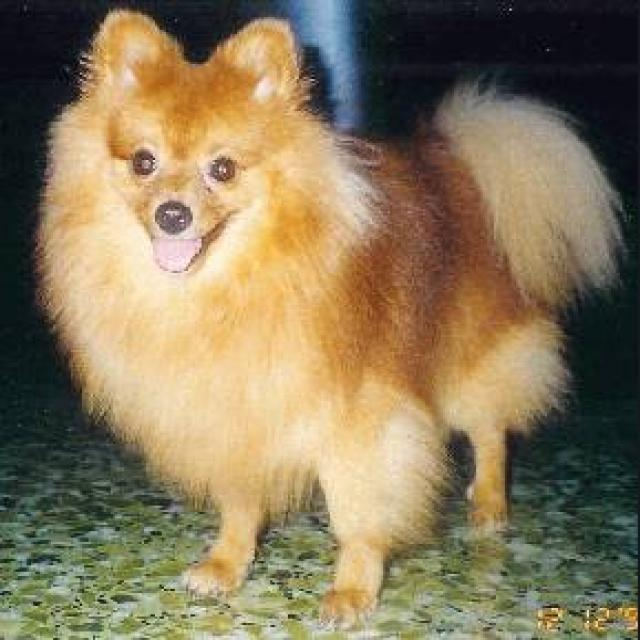dog-pomeranian: (35, 2, 616, 627)
